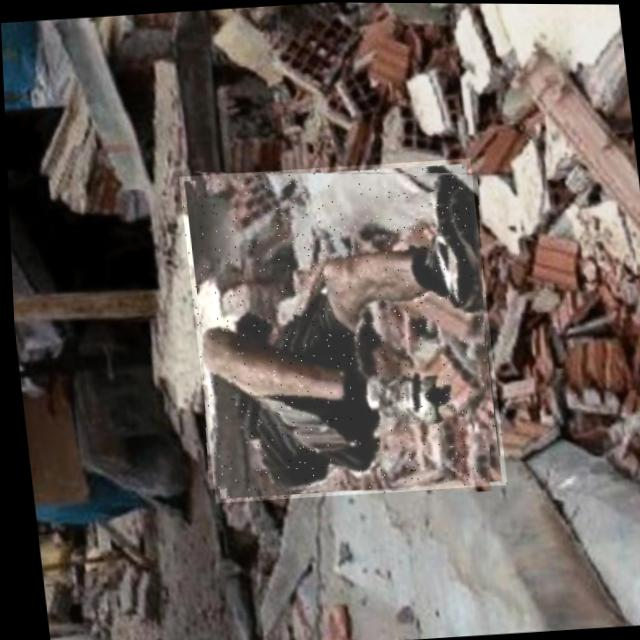Person in Rubble: (176, 154, 503, 503)
